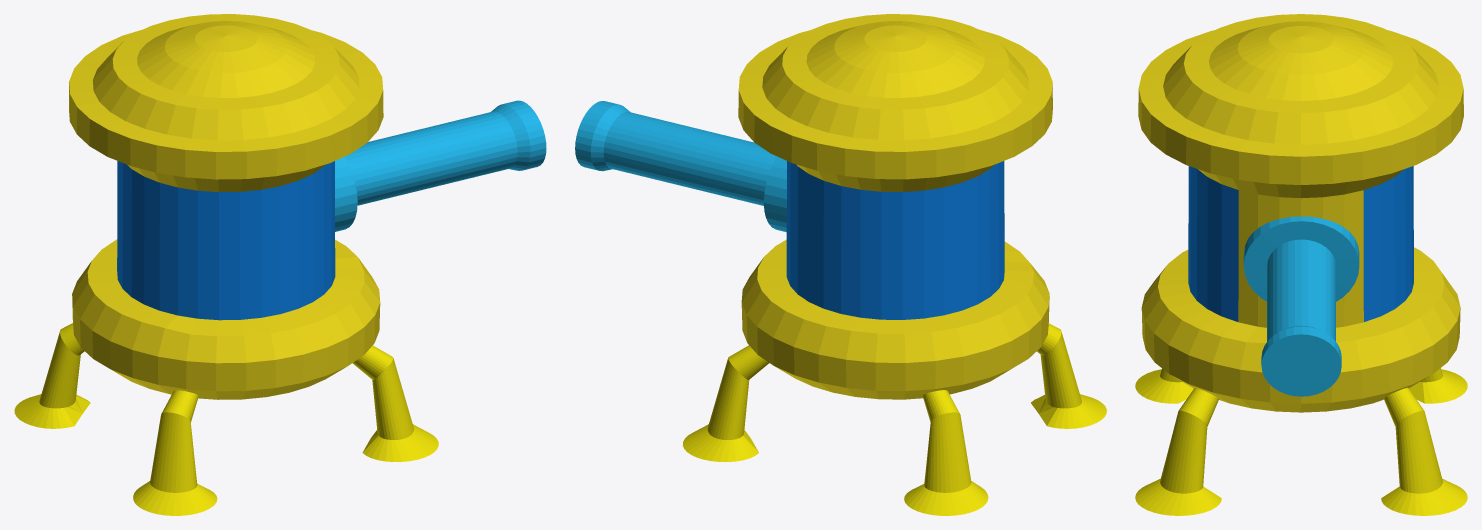
File: turret1.gltf
3 renders of one model, left to right at view 1: azimuth 30°, elevation 25°; view 2: azimuth 150°, elevation 25°; view 3: azimuth 270°, elevation 25°, orthographic. The views are drawn at different scales.
Parts seen in each view (by area): view 1: body, legs, gun; view 2: body, legs, gun; view 3: body, gun, legs.
Boxes of the visible parts, x1=… form: body: x1=69, y1=14, x2=383, y2=399; legs: x1=14, y1=323, x2=438, y2=515; gun: x1=335, y1=100, x2=546, y2=231; body: x1=738, y1=14, x2=1052, y2=399; legs: x1=682, y1=323, x2=1106, y2=515; gun: x1=575, y1=101, x2=786, y2=232; body: x1=1138, y1=14, x2=1463, y2=412; gun: x1=1243, y1=216, x2=1359, y2=396; legs: x1=1135, y1=368, x2=1467, y2=515.
Bounding box in the file's own units: 4.11 × 3.44 × 2.56.
